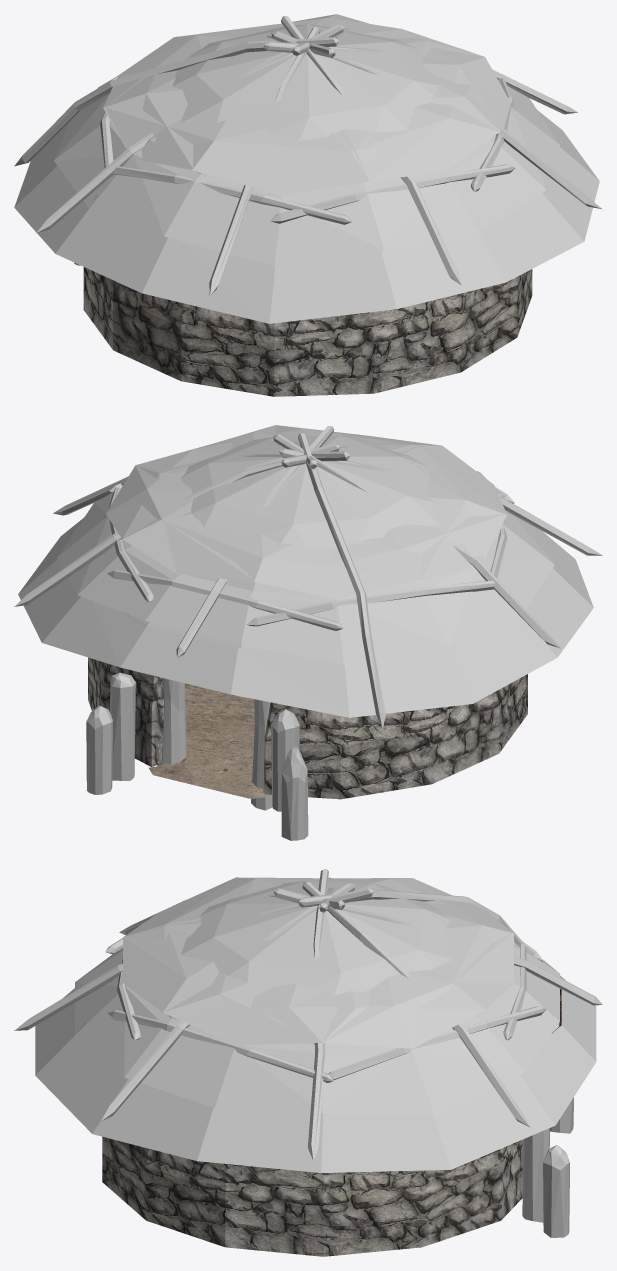
Rendered from RoundHut_4_LOD1.fbx.
3 renders of one model, top to bottom at view 1: azimuth 30°, elevation 25°; view 2: azimuth 150°, elevation 25°; view 3: azimuth 270°, elevation 25°, orthographic. The views are drawn at different scales.
Visible parts, largest first — view 1: Alpha, Stone, Wood; view 2: Alpha, Wood, Stone, Ground; view 3: Alpha, Stone, Wood.
Part boxes in pixels (box(x1,y1,x2,y2)): Alpha: box(14, 14, 599, 323); Stone: box(83, 267, 532, 396); Wood: box(14, 16, 602, 295); Alpha: box(18, 425, 593, 717); Wood: box(14, 426, 602, 840); Stone: box(88, 657, 527, 799); Ground: box(148, 683, 267, 798); Alpha: box(35, 877, 596, 1172); Stone: box(102, 1136, 522, 1256); Wood: box(14, 869, 602, 1237).
Size of the model in its own units: 1224 by 1166 by 648.
